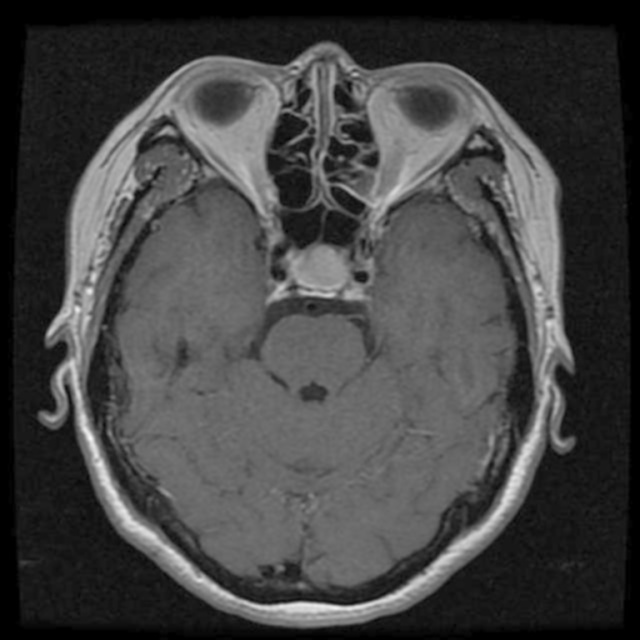no tumor: (275, 236, 363, 290)
